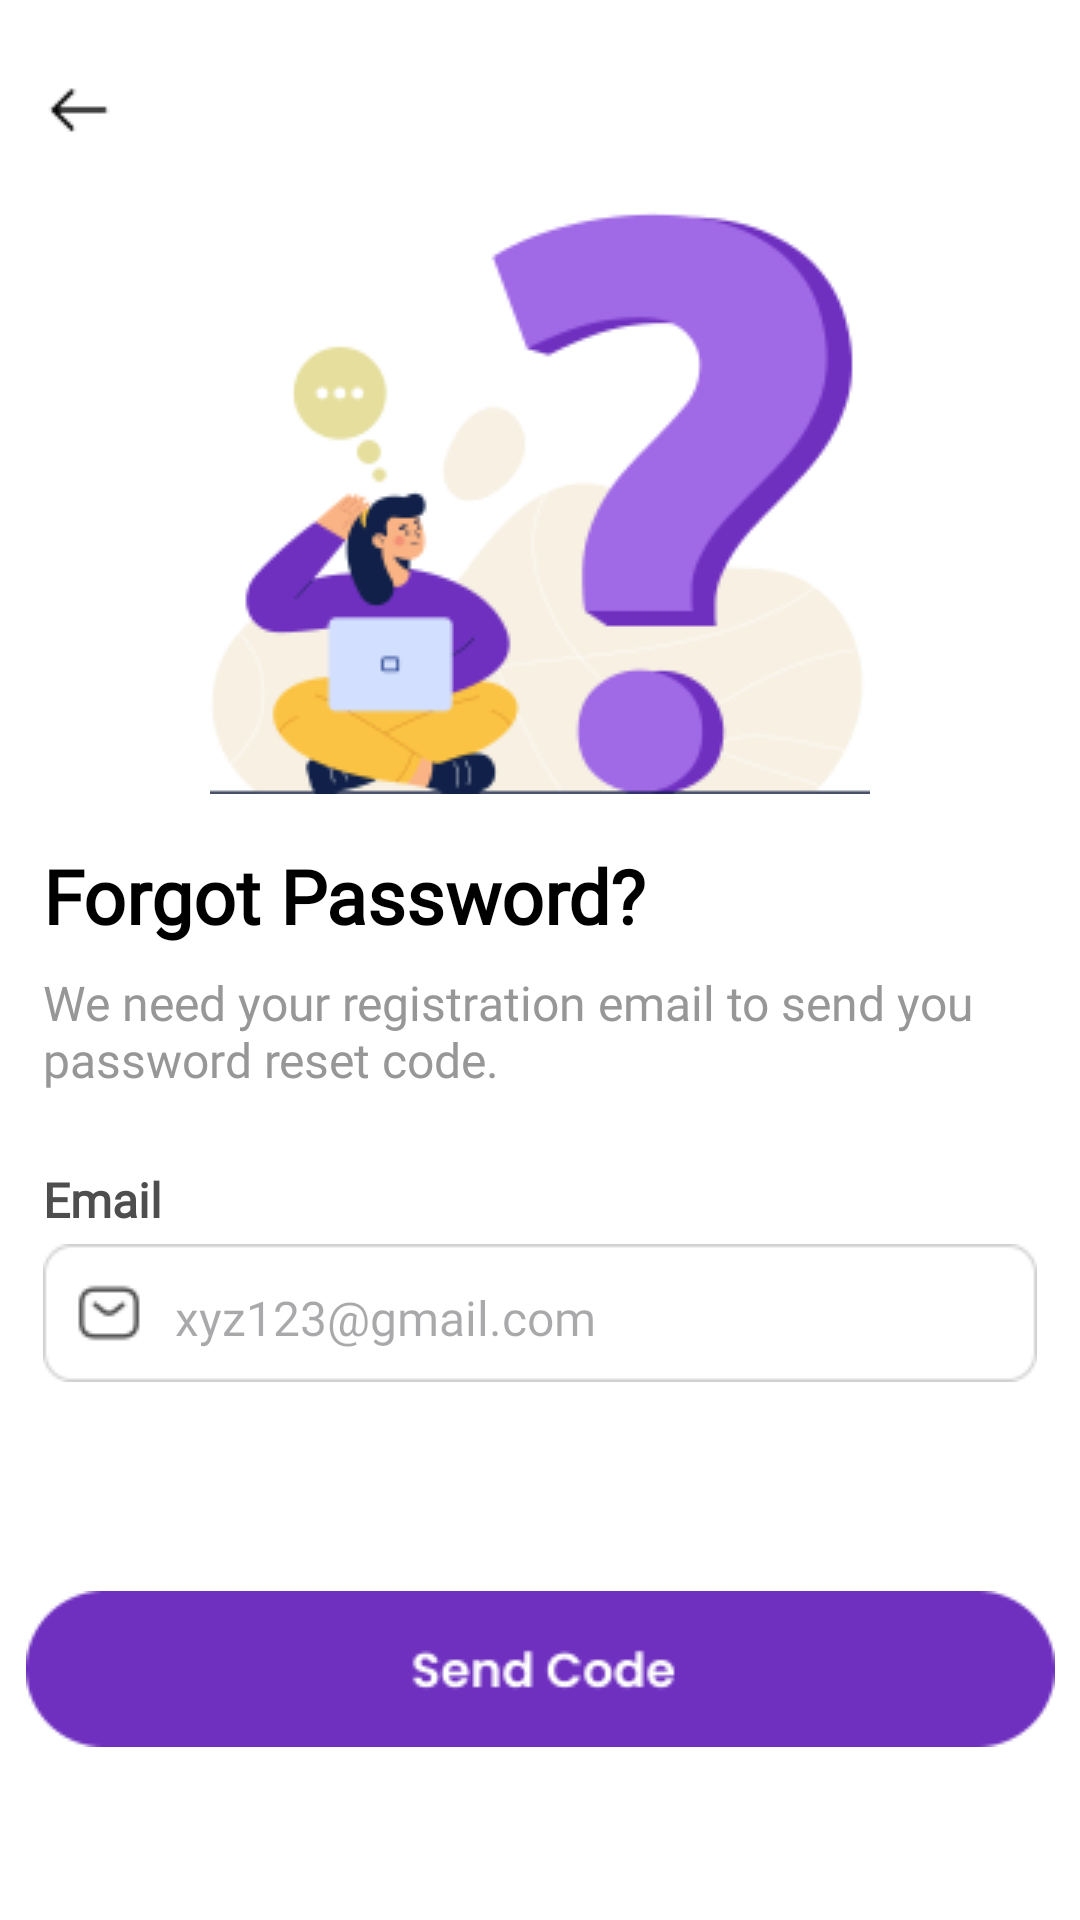

Where icons sit on this 1080x1920 app screen, as (x1, y1, x2, y2):
back arrow: (50, 88, 108, 132)
